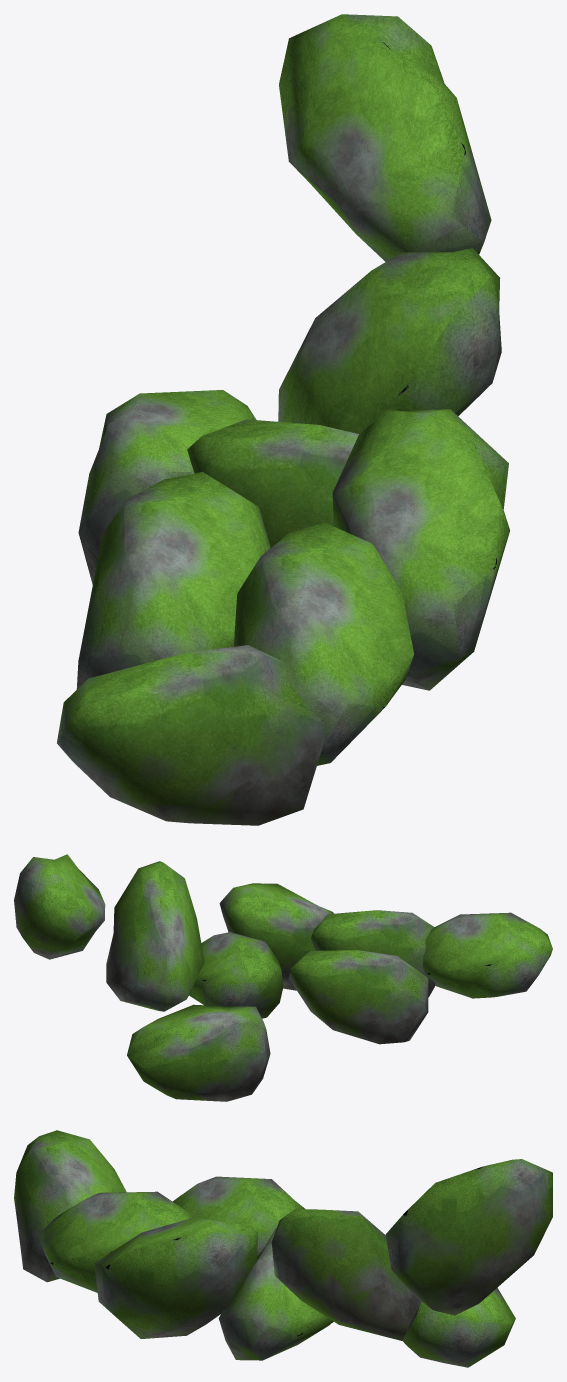
File: river_stones_b.glb
The picture shows the model from 3 angles, top to bottom: view 1: azimuth 30°, elevation 25°; view 2: azimuth 150°, elevation 25°; view 3: azimuth 270°, elevation 25°; orthographic projection. The views are drawn at different scales.
Parts seen in each view (by area): view 1: mossy_stone_b.jpg__; view 2: mossy_stone_b.jpg__; view 3: mossy_stone_b.jpg__.
Boxes of the visible parts, x1,y1,x2,y2 form: mossy_stone_b.jpg__: (57, 14, 509, 825); mossy_stone_b.jpg__: (14, 854, 552, 1101); mossy_stone_b.jpg__: (14, 1130, 552, 1367).
Size of the model in its own units: 8.04 by 4.78 by 8.4.
Materials: 1 (1 with a texture image).
